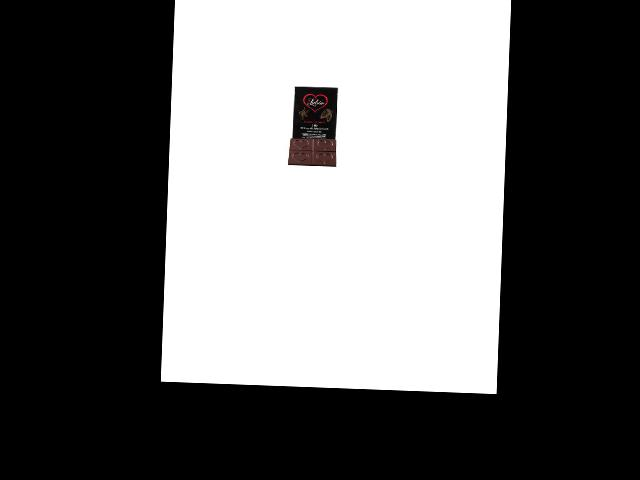chocolate: (284, 85, 340, 170)
